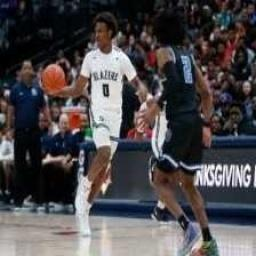ball: (42, 63, 64, 96)
human: (50, 11, 150, 237), (137, 9, 221, 256), (6, 59, 50, 215)
